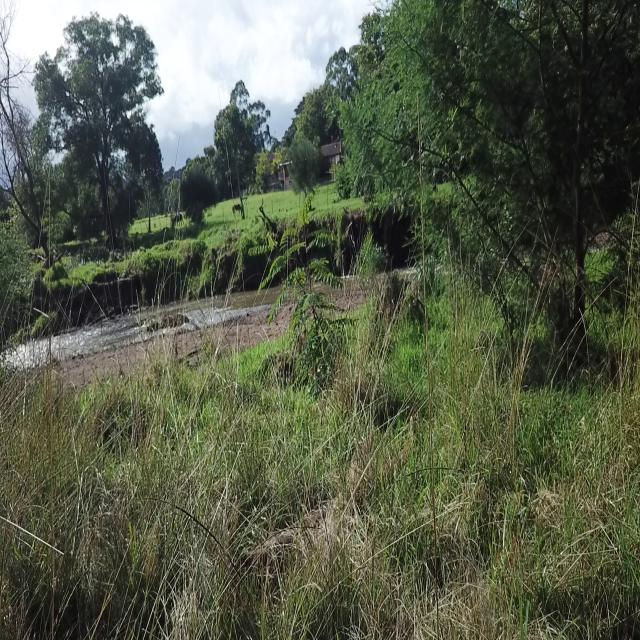Mysore-Thorn-Weed: (257, 215, 357, 384)
